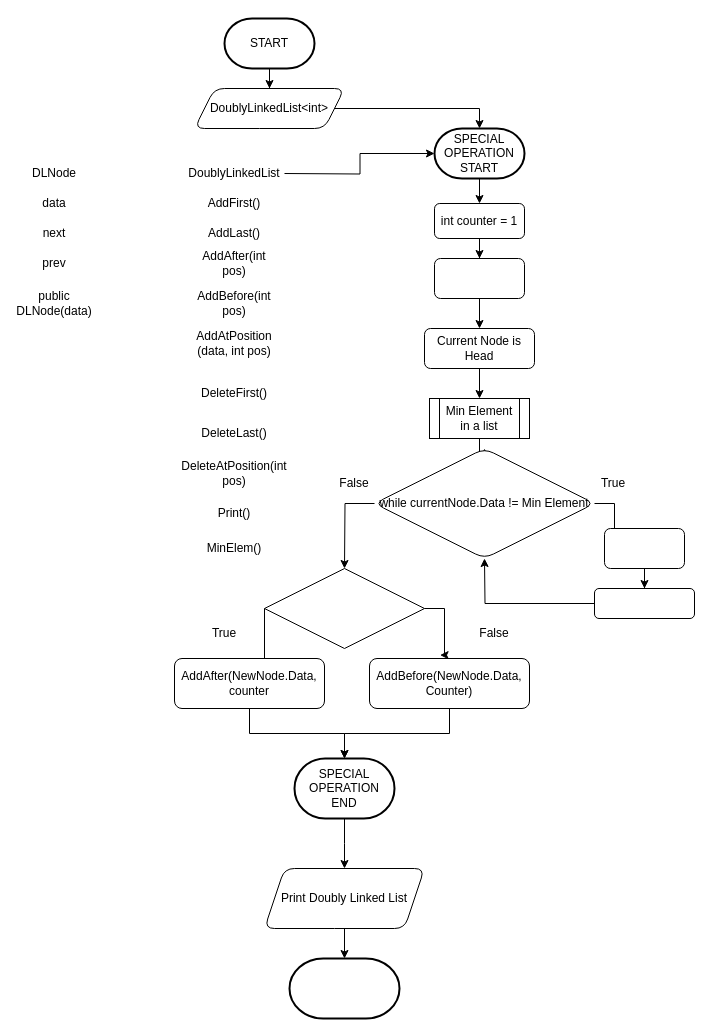
Some shapes in this 712 by 1036 pixel diagram are drawn without their labels. The box of each missing label's shape, as (x1, y1, x2, y2) in pixels:
counter++: (604, 528, 684, 568)
Create New Node: (434, 258, 524, 298)
Current = Current.next: (594, 588, 694, 618)
END: (288, 957, 400, 1019)
if (NewNode.Data > min): (264, 568, 424, 648)
